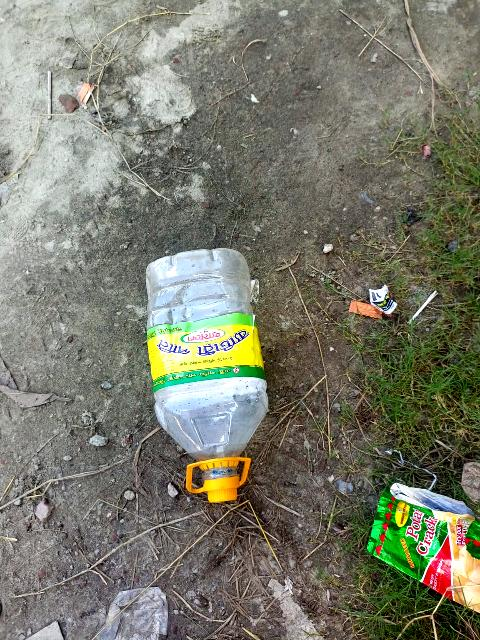bottle: (124, 230, 292, 516)
